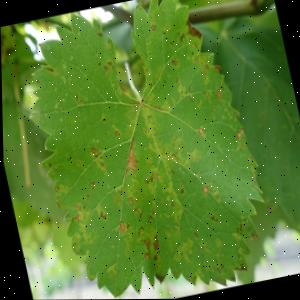Folha: (8, 0, 280, 300)
Fungo: (135, 92, 206, 188), (142, 157, 200, 271), (60, 194, 103, 254), (184, 233, 229, 280), (185, 44, 217, 87), (189, 78, 216, 109), (52, 179, 75, 208), (89, 144, 107, 176), (184, 16, 204, 43), (93, 53, 116, 76), (122, 145, 139, 173), (69, 150, 87, 172), (226, 228, 245, 246), (139, 236, 153, 260), (174, 79, 187, 100), (103, 262, 119, 278), (94, 20, 103, 39), (200, 180, 212, 194), (233, 262, 247, 274), (176, 29, 187, 44), (235, 141, 245, 156), (233, 222, 243, 236), (169, 55, 180, 67), (50, 99, 60, 112), (213, 62, 223, 75), (58, 71, 67, 85), (96, 208, 106, 220), (195, 125, 205, 137), (117, 219, 125, 233), (214, 88, 222, 101), (87, 179, 95, 190), (208, 213, 217, 222), (148, 23, 156, 32), (249, 232, 258, 240), (126, 195, 133, 205), (200, 184, 207, 193), (45, 63, 52, 72), (60, 96, 67, 104), (197, 126, 203, 135), (169, 168, 175, 177), (113, 128, 119, 136), (171, 58, 177, 66), (178, 185, 183, 194), (235, 130, 240, 139), (239, 127, 244, 136), (213, 193, 218, 200), (192, 231, 197, 238), (100, 116, 105, 122), (169, 201, 174, 207)
